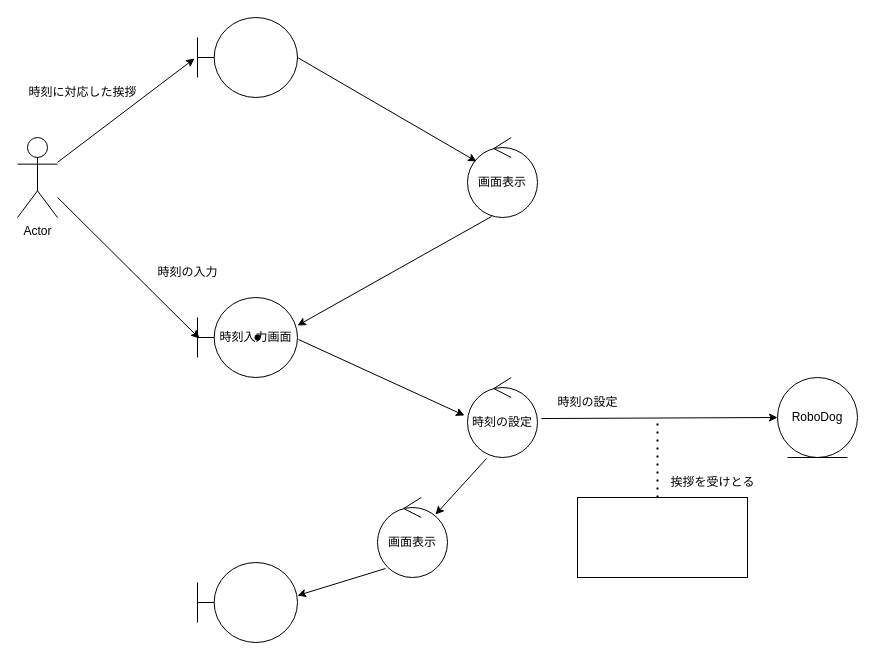
The diagram is 875 pixels wide and 660 high, and some of its shapes have lost their labels. The shapes that lost their labels are listed below. From the top down, each one's centre as x and y in pixels, then its label:
At (247,57): "システムメニュー".
At (662,537): "9:00～「おはよう」 12:00～「こんにちは」 13:00～「こんばんは」".
At (247,602): "時刻に応じた画面表示".
